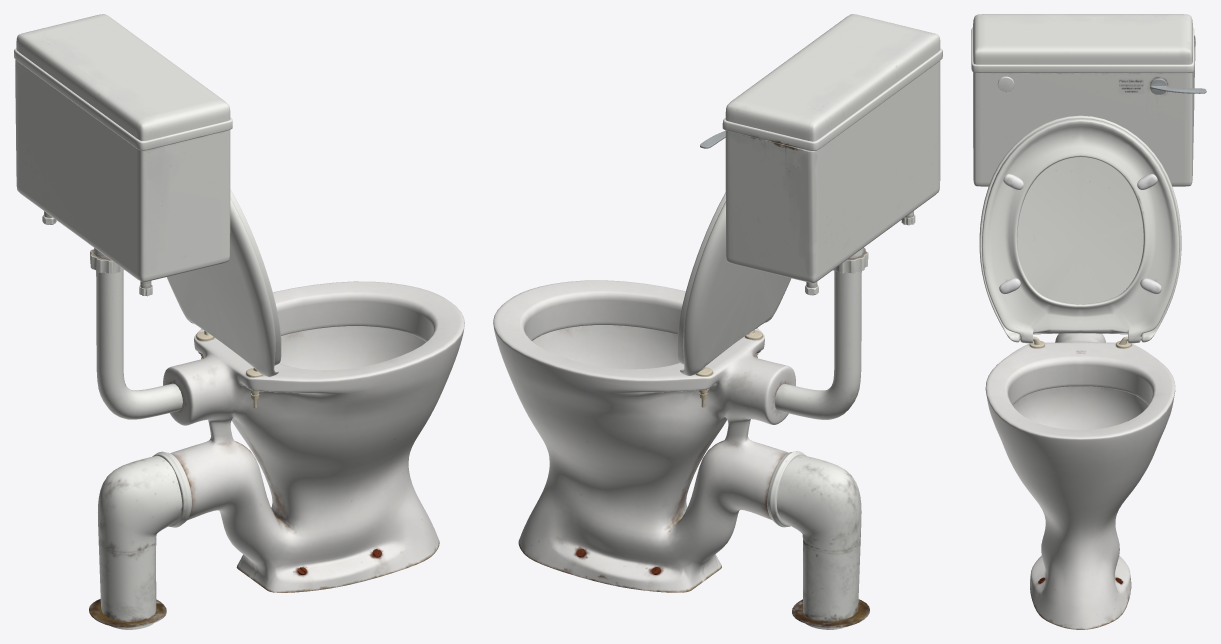
3 views of the same model, side by side, from view 1: azimuth 30°, elevation 25°; view 2: azimuth 150°, elevation 25°; view 3: azimuth 270°, elevation 25° (orthographic). The views are drawn at different scales.
Visible parts, largest first — view 1: toiletbowl_low, toiletbox_low, toiletpipe_low, toiletlid_low, toiletwaterpipe_low, toiletbowl2_low, toiletboxskirt_low, lid1_low, toiletpipeseal_low, toiletwasteskirt_low; view 2: toiletbowl_low, toiletbox_low, toiletpipe_low, toiletlid_low, toiletwaterpipe_low, toiletbowl2_low, toiletboxskirt_low, lid1_low, toiletpipeseal_low, toiletwasteskirt_low; view 3: toiletbowl_low, toiletbox_low, lid1_low, toiletlid_low, toiletbowl2_low, toiletboxskirt_low, toiletpads_low, toiletlever_low.
Part boxes in pixels (x1,y1,x2,y2): toiletbowl_low: (163, 281, 464, 592); toiletbox_low: (15, 14, 230, 281); toiletpipe_low: (98, 455, 182, 629); toiletlid_low: (166, 198, 278, 376); toiletwaterpipe_low: (96, 270, 182, 419); toiletbowl2_low: (279, 326, 425, 369); toiletboxskirt_low: (14, 48, 232, 150); lid1_low: (201, 189, 281, 365); toiletpipeseal_low: (152, 451, 191, 527); toiletwasteskirt_low: (89, 599, 166, 627); toiletbowl_low: (493, 280, 795, 592); toiletbox_low: (725, 14, 940, 282); toiletpipe_low: (777, 455, 861, 629); toiletlid_low: (680, 201, 791, 375); toiletwaterpipe_low: (775, 270, 861, 419); toiletbowl2_low: (532, 325, 679, 369); toiletboxskirt_low: (722, 48, 942, 150); lid1_low: (677, 192, 757, 364); toiletpipeseal_low: (767, 451, 806, 527); toiletwasteskirt_low: (792, 599, 869, 627); toiletbowl_low: (985, 333, 1175, 629); toiletbox_low: (973, 14, 1195, 186); lid1_low: (981, 118, 1179, 343); toiletlid_low: (979, 115, 1181, 342); toiletbowl2_low: (1012, 386, 1148, 429); toiletboxskirt_low: (971, 27, 1194, 73); toiletpads_low: (999, 174, 1161, 294); toiletlever_low: (1150, 78, 1206, 94).
Bounding box in the file's own units: 71.45 × 101 × 45.09.
Materials: 1 (1 with a texture image).
